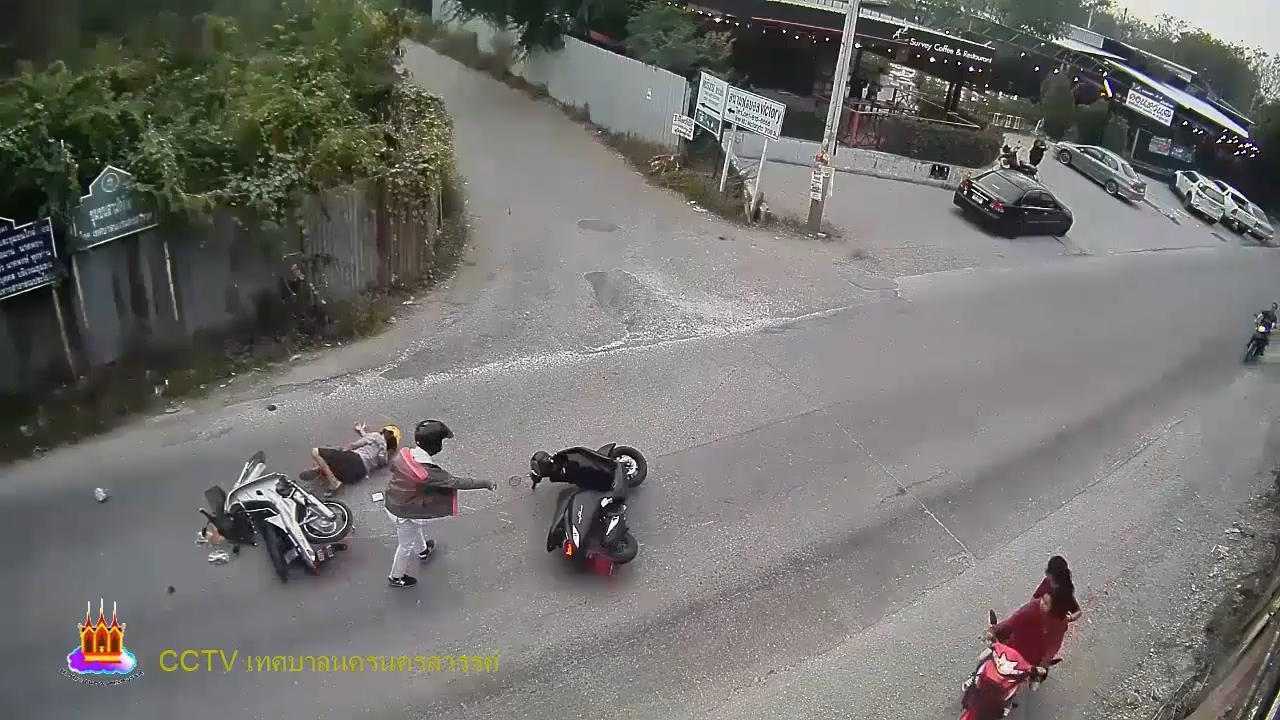accident: (300, 419, 403, 496)
